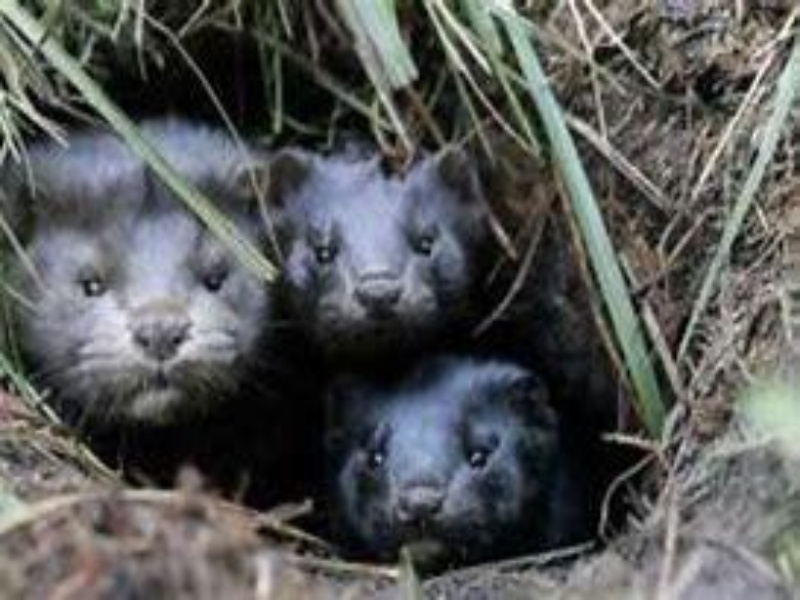minkish: (11, 135, 276, 425), (307, 353, 571, 561), (272, 139, 478, 349)
